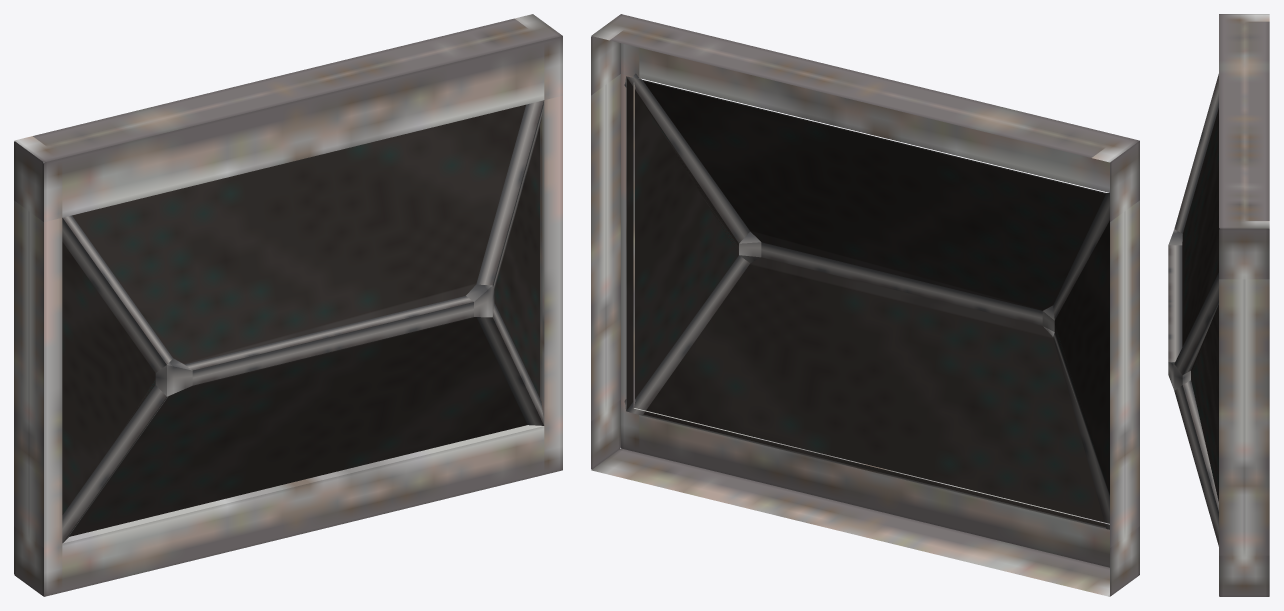
File: Poly_SF_Outside_B_Window_09.obj
3 views of the same model, side by side, from view 1: azimuth 30°, elevation 25°; view 2: azimuth 150°, elevation 25°; view 3: azimuth 270°, elevation 25° (orthographic). The views are drawn at different scales.
Parts seen in each view (by area): view 1: Cube.002, Cube.001; view 2: Cube.002, Cube.001; view 3: Cube.001, Cube.002.
Boxes of the visible parts, x1=… form: Cube.002: x1=62, y1=100, x2=544, y2=543; Cube.001: x1=14, y1=14, x2=562, y2=596; Cube.002: x1=624, y1=73, x2=1109, y2=529; Cube.001: x1=591, y1=14, x2=1139, y2=596; Cube.001: x1=1219, y1=14, x2=1269, y2=596; Cube.002: x1=1168, y1=74, x2=1219, y2=546.
Bounding box in the file's own units: 1 × 0.8 × 0.1999.
Materials: 1 (1 with a texture image).
